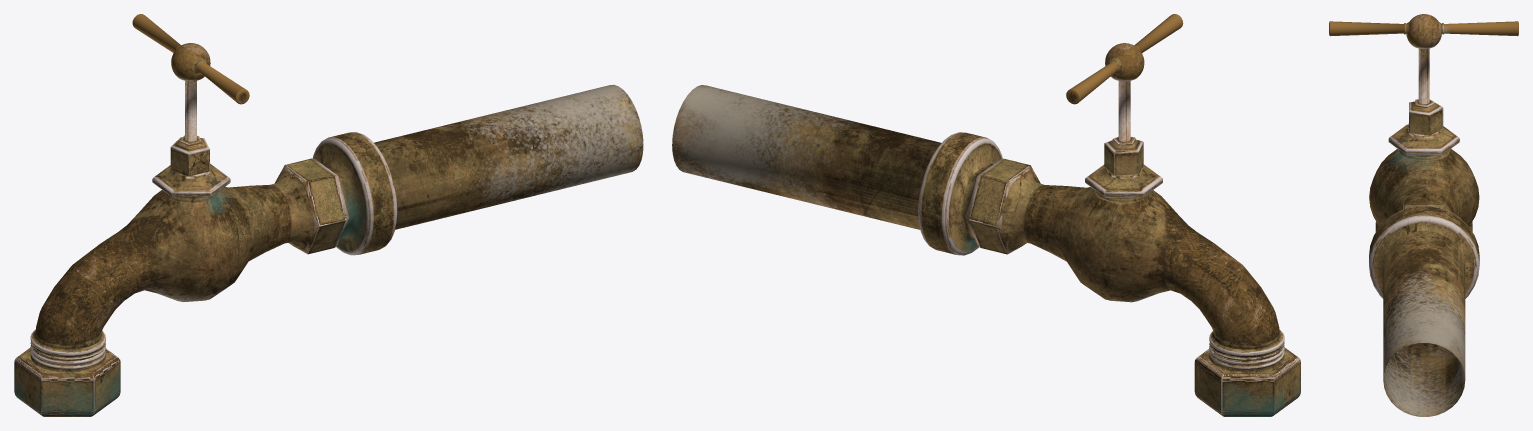
3 renders of one model, left to right at view 1: azimuth 30°, elevation 25°; view 2: azimuth 150°, elevation 25°; view 3: azimuth 270°, elevation 25°, orthographic. The views are drawn at different scales.
Parts seen in each view (by area): view 1: WaterPipe; view 2: WaterPipe; view 3: WaterPipe.
Part boxes in pixels (bbox=[...]): WaterPipe: bbox=[14, 14, 643, 416]; WaterPipe: bbox=[672, 14, 1300, 416]; WaterPipe: bbox=[1329, 14, 1518, 416].
Bounding box in the file's own units: 0.6554 × 0.1989 × 0.3452.
1 material, 1 textured.
